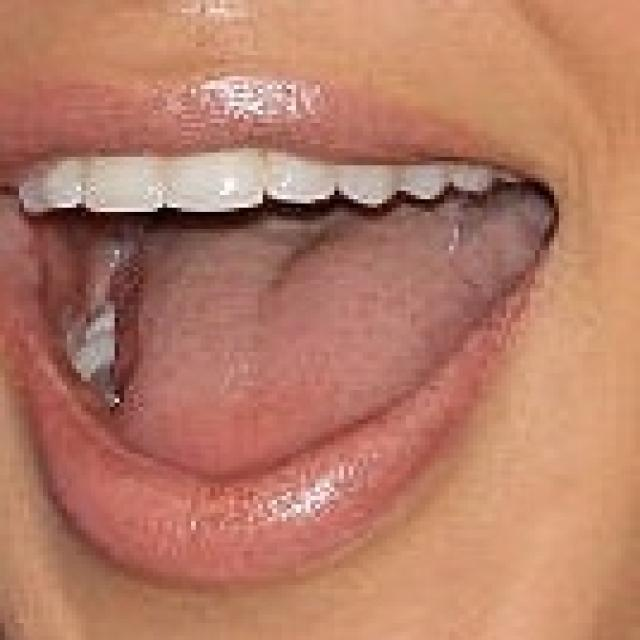open-mouth: (0, 119, 564, 585)
